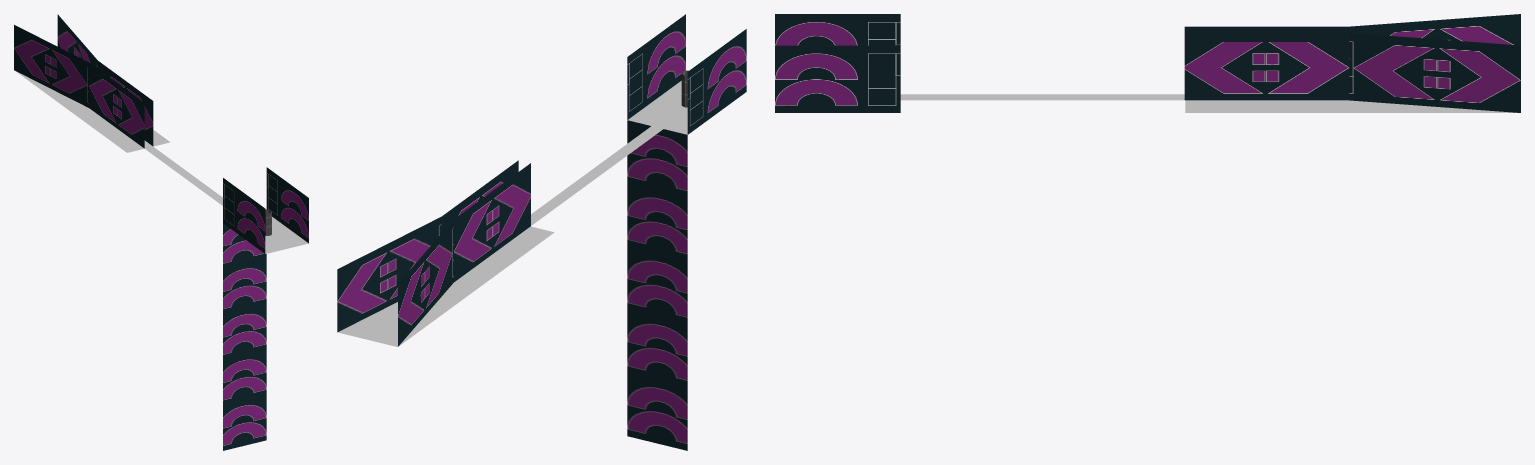
Rendered from Tile20.fbx.
3 renders of one model, left to right at view 1: azimuth 30°, elevation 25°; view 2: azimuth 150°, elevation 25°; view 3: azimuth 270°, elevation 25°, orthographic. The views are drawn at different scales.
Visible parts, largest first — view 1: WallRight5, WallRight, ground, WallRight1, WallRight3, WallLeft3, WallLeft1, WallLeft; view 2: WallRight5, ground, WallLeft, WallRight1, WallRight3, WallLeft3, WallRight, WallLeft1; view 3: WallLeft, WallLeft1, WallLeft3, ground, WallRight3, WallRight, WallRight1.
Part boxes in pixels (x1,y1,x2,y2): WallRight5: [223, 223, 266, 450]; WallRight: [14, 25, 89, 107]; ground: [15, 71, 308, 253]; WallRight1: [89, 63, 144, 148]; WallRight3: [223, 178, 265, 253]; WallLeft3: [266, 167, 308, 243]; WallLeft1: [98, 61, 153, 146]; WallLeft: [57, 14, 97, 68]; WallRight5: [627, 120, 687, 450]; ground: [338, 81, 687, 346]; WallLeft: [337, 216, 441, 332]; WallRight1: [454, 163, 530, 281]; WallRight3: [687, 29, 746, 134]; WallLeft3: [627, 14, 685, 119]; WallRight: [398, 219, 453, 346]; WallLeft1: [441, 160, 518, 232]; WallLeft: [1349, 33, 1520, 112]; WallLeft1: [1184, 33, 1349, 100]; WallLeft3: [775, 45, 900, 112]; ground: [900, 94, 1516, 112]; WallRight3: [775, 14, 900, 45]; WallRight: [1349, 14, 1520, 45]; WallRight1: [1184, 26, 1349, 32].
Size of what is drawn, in the model's own units: 10 by 60 by 100.
